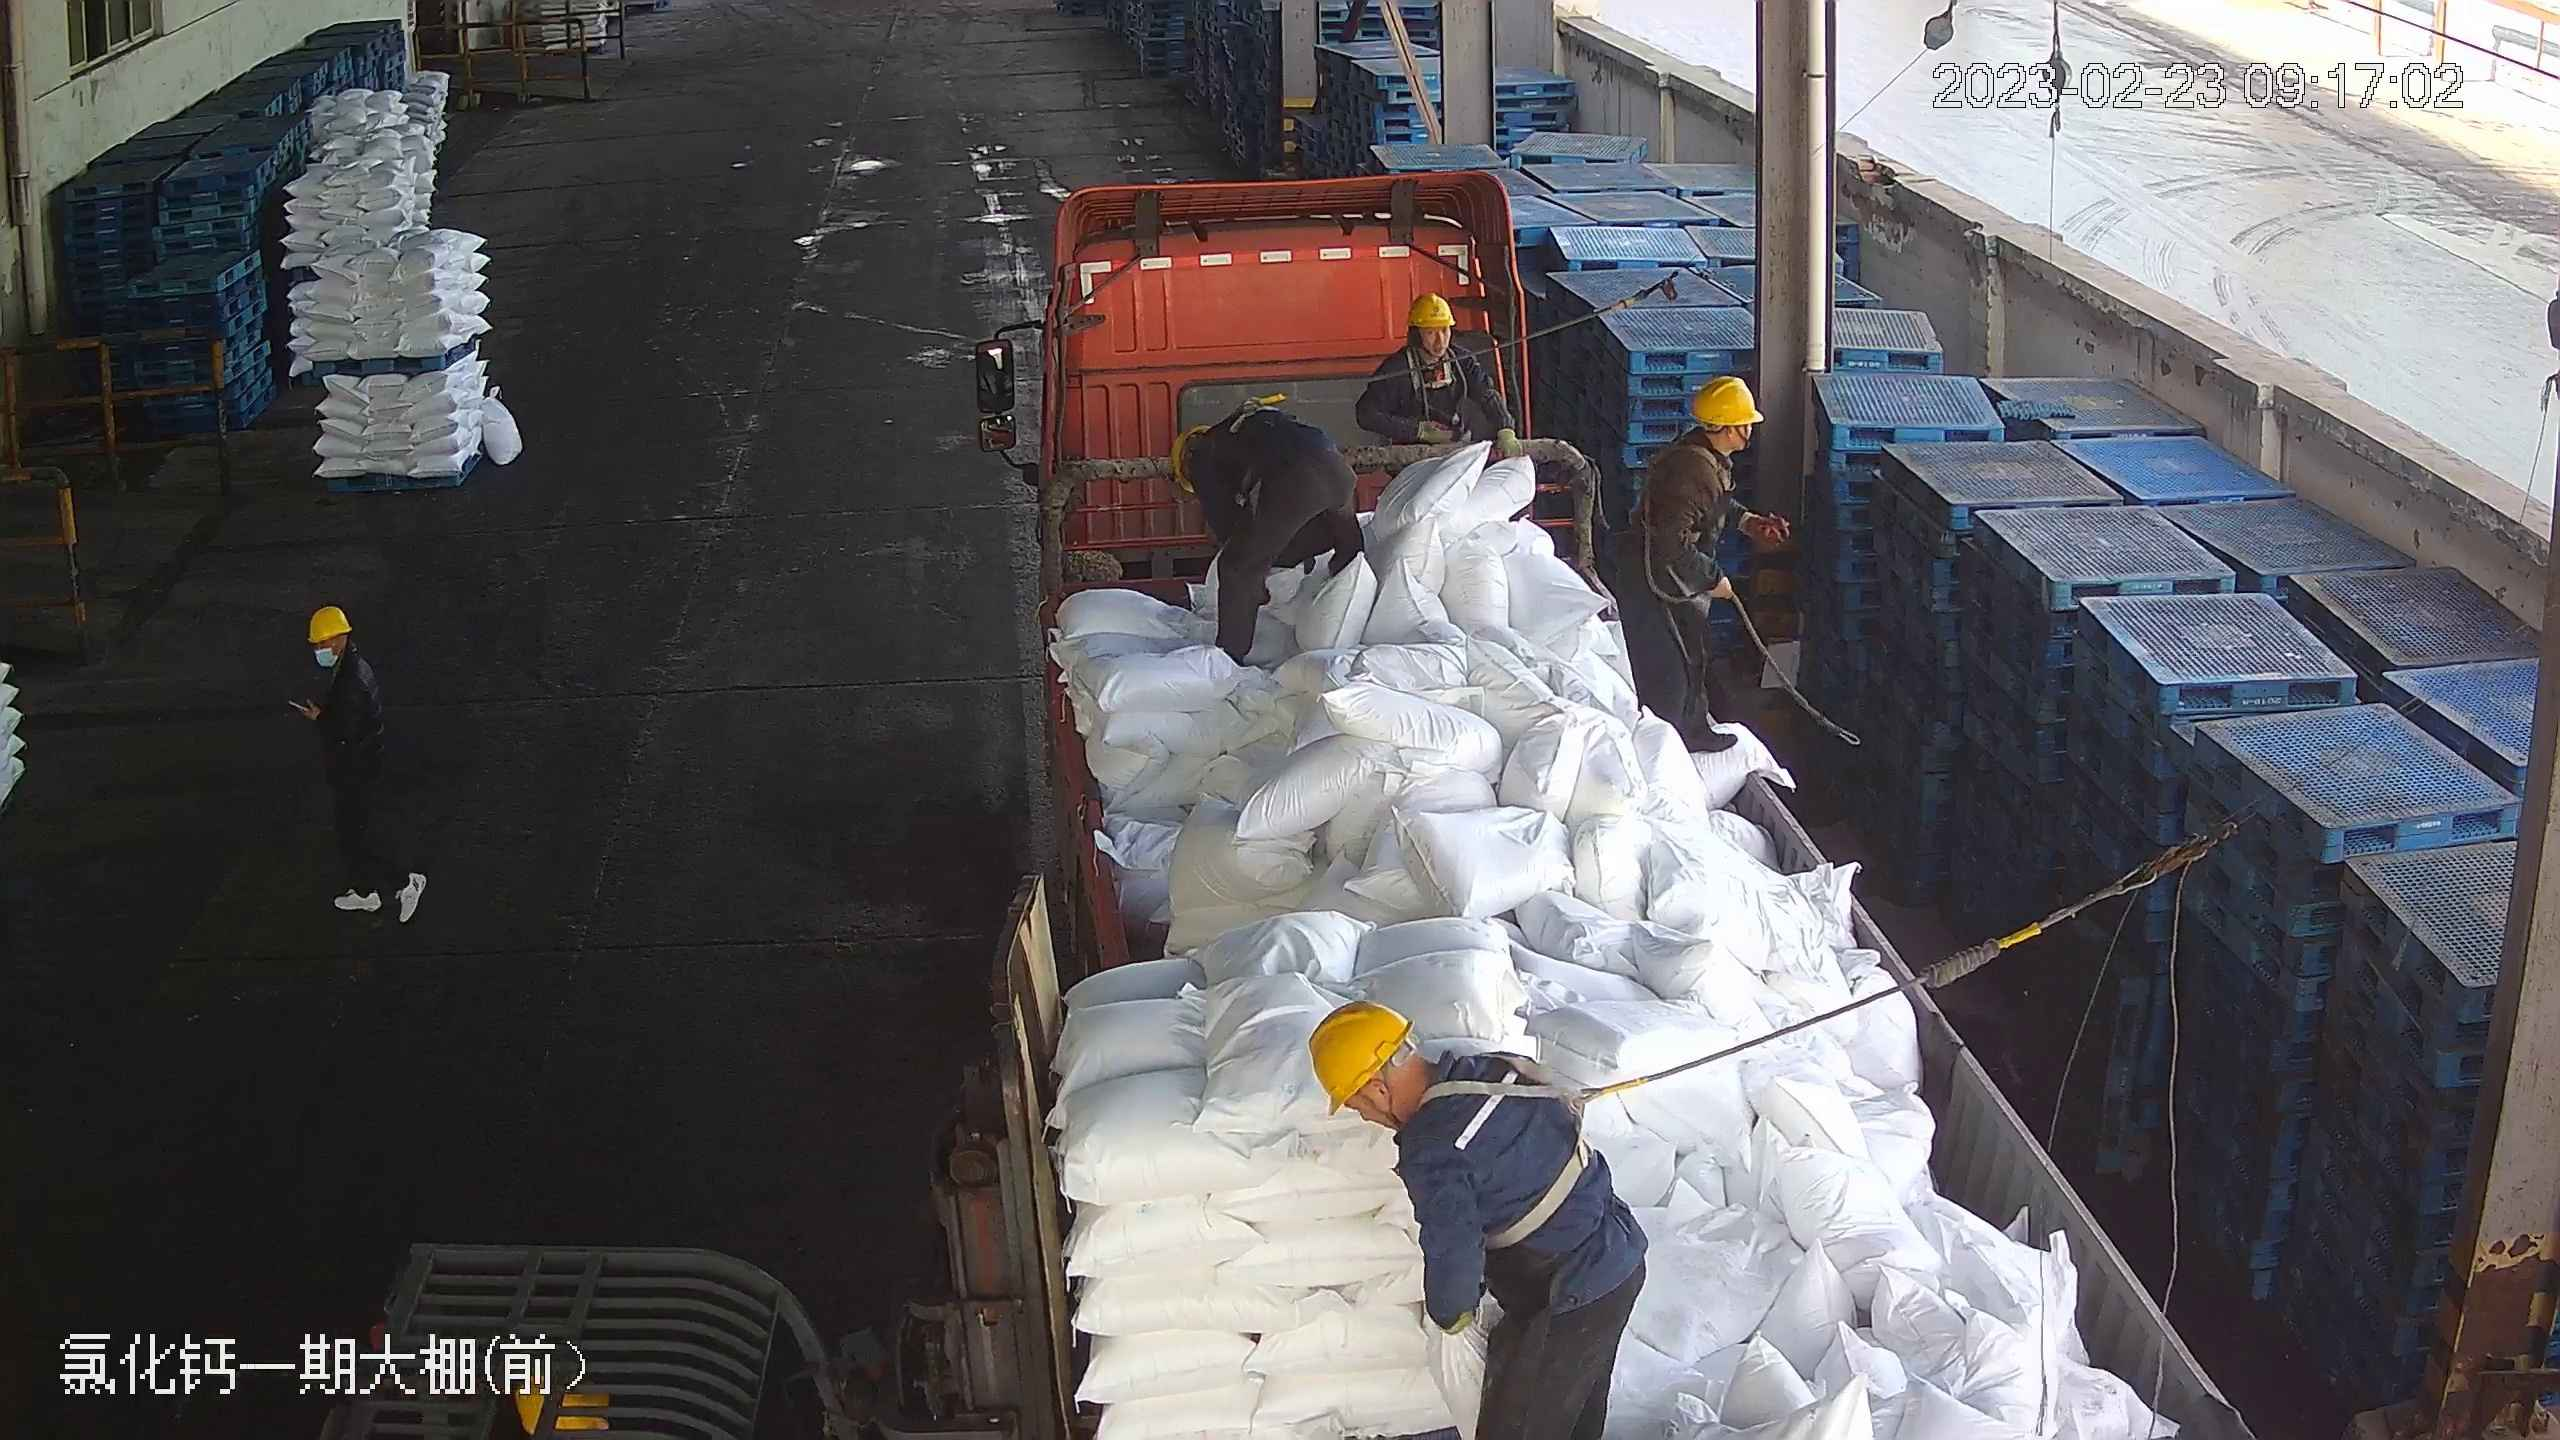belt: (1441, 1063, 1648, 1242), (1628, 424, 1715, 548), (1394, 356, 1471, 442), (1210, 385, 1297, 444)
head: (1307, 1000, 1530, 1211), (1660, 376, 1764, 496), (1382, 291, 1490, 384), (1165, 408, 1271, 487), (290, 604, 376, 698)
helmet: (1303, 1002, 1418, 1110), (1688, 372, 1765, 424), (1163, 420, 1214, 468), (303, 603, 354, 645), (1403, 290, 1456, 329)
people: (1306, 1000, 1649, 1440), (1625, 379, 1781, 752), (1157, 402, 1367, 670), (282, 603, 433, 930)
truck: (986, 165, 2253, 1438)
